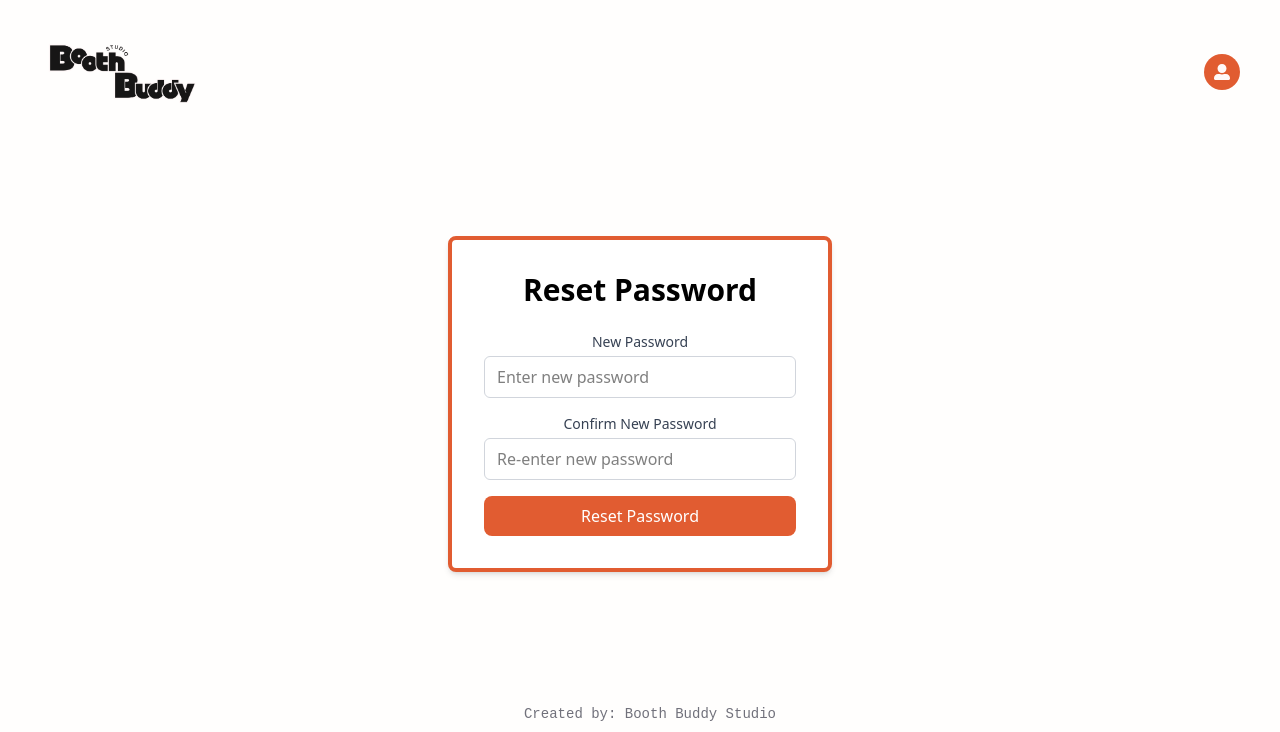
Test: ResetPasswordPage Component › should show error when passwords do not match
Step 1. Type "Test123!" into the password field with placeholder "Enter new password" → (640, 377), box [484,356,796,398]
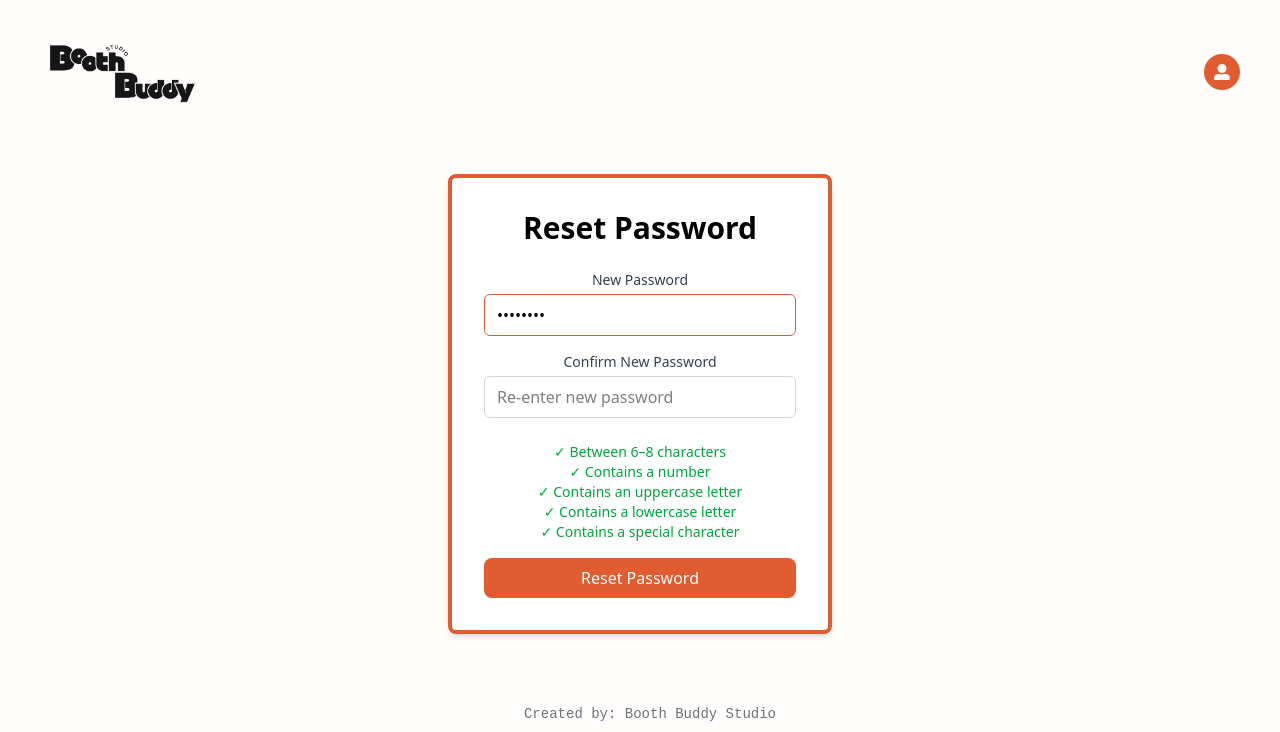
Step 2. Type "Different123!" into the password field with placeholder "Re-enter new password" → (640, 397), box [484,376,796,418]
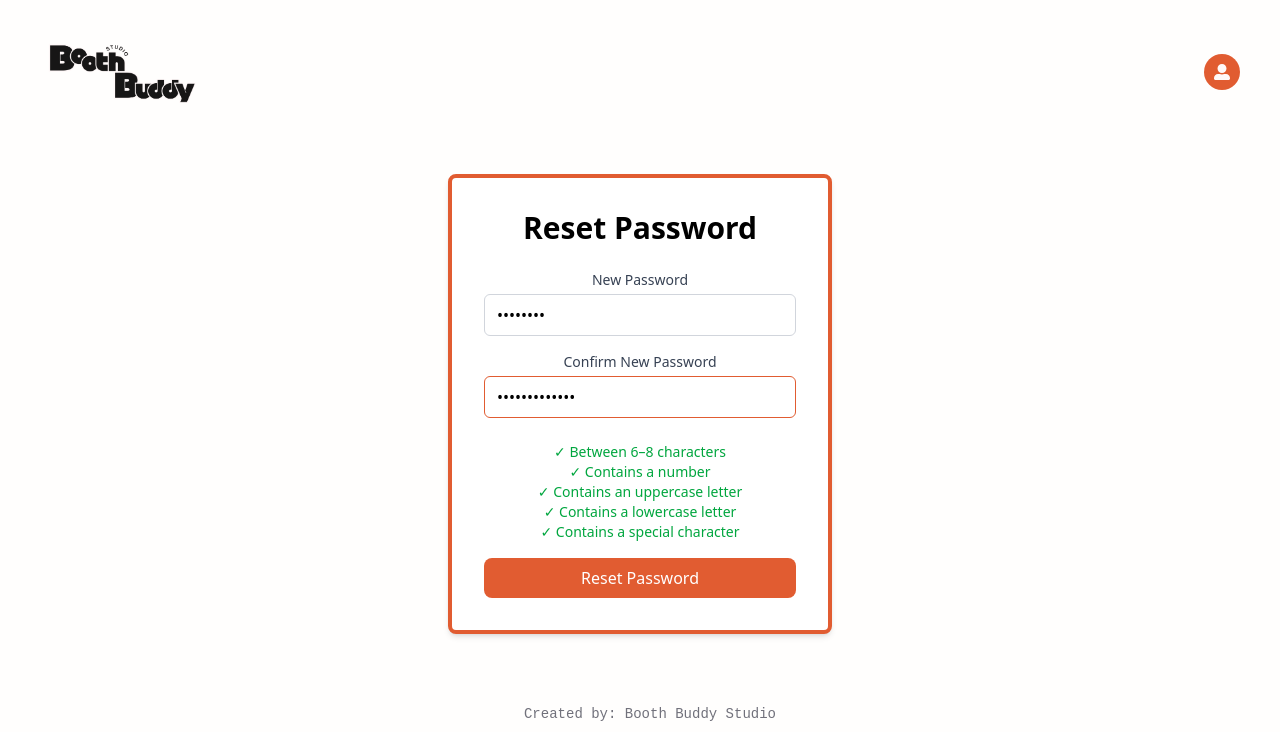
Step 3. Click the button "Reset Password" → (640, 578), box [484,558,796,598]
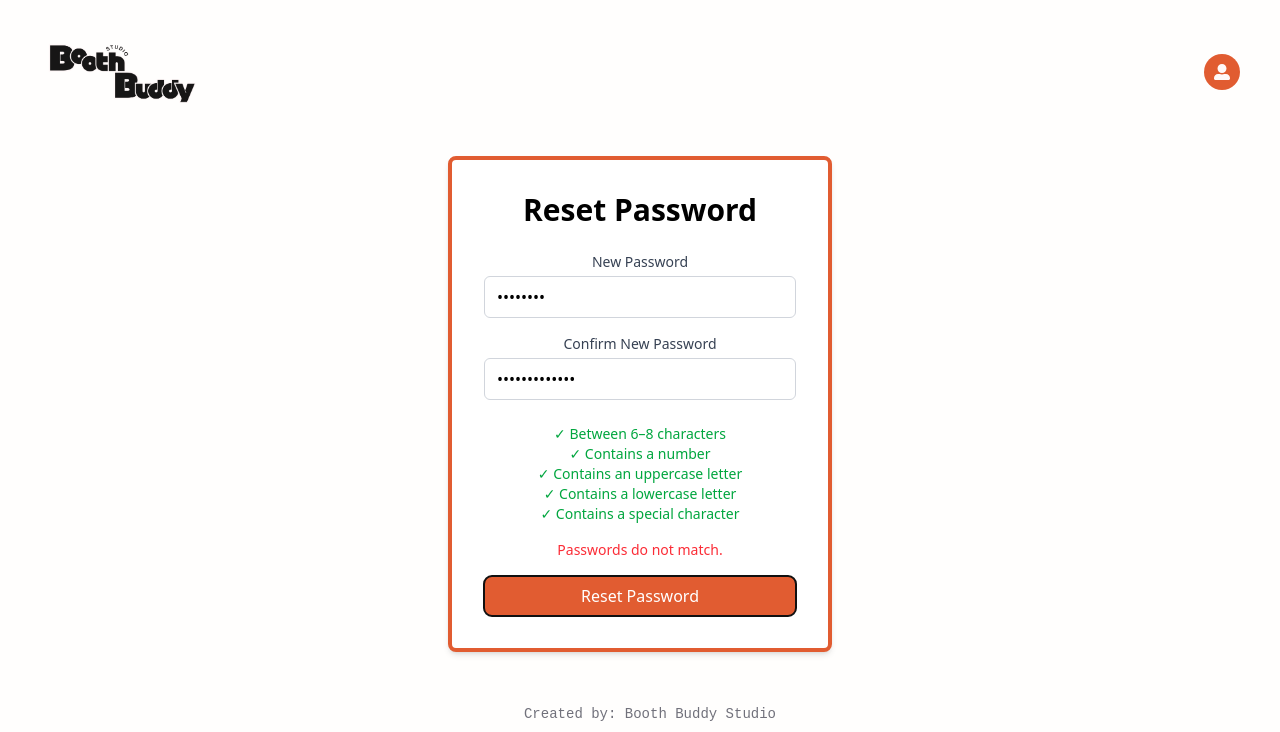
Expected: the text "Passwords do not match." is shown, [557,540,723,559]
